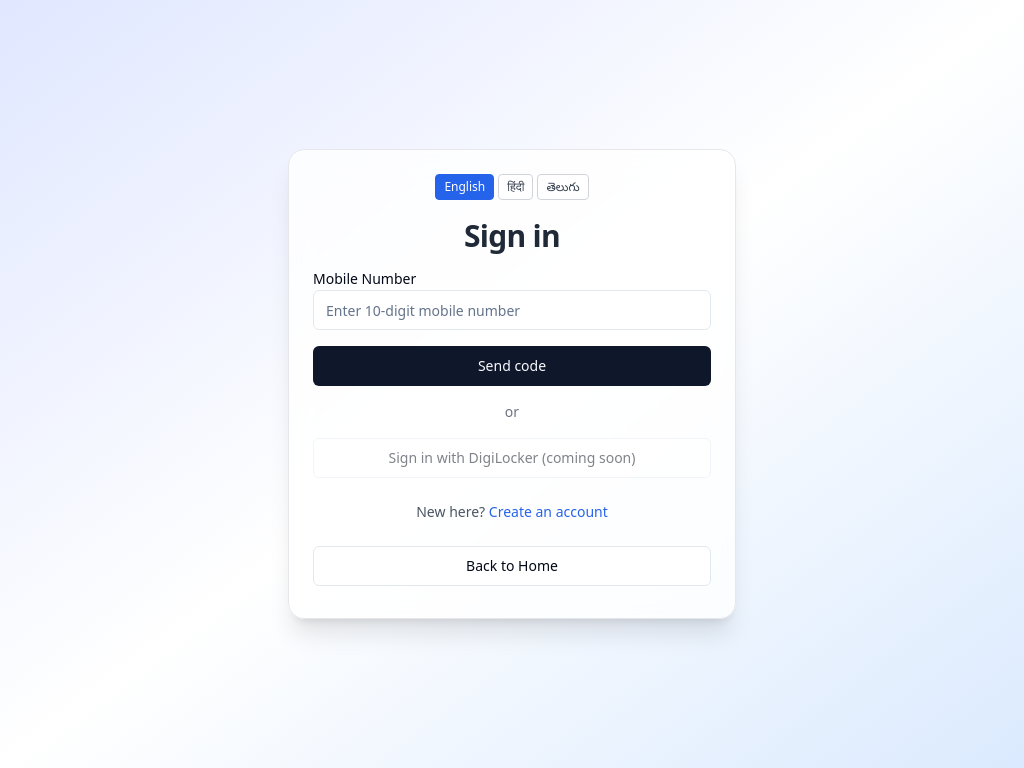
Test case: i18n › switches the login screen language and sets the page language
Check: the button "Send code" is shown, box [313,346,711,386]
Click the button "हिंदी" at (516, 187), box [498,174,534,200]
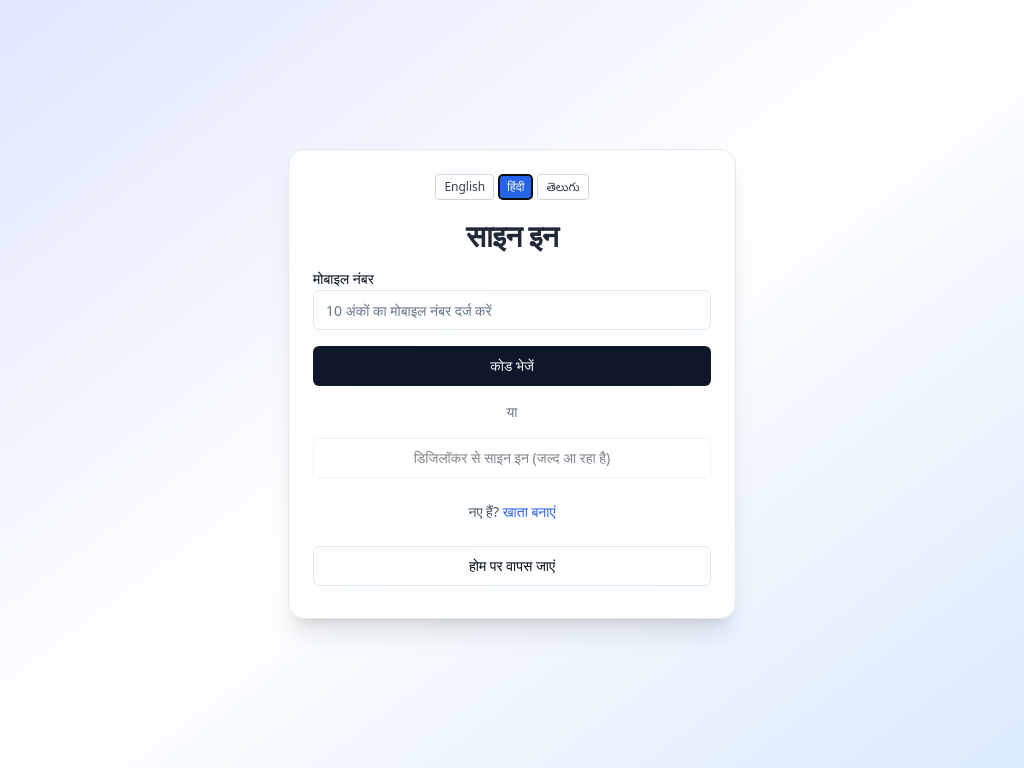
Check: the button "कोड भेजें" is shown, box [313,346,711,386]
Click the button "తెలుగు" at (563, 187), box [538,174,589,200]
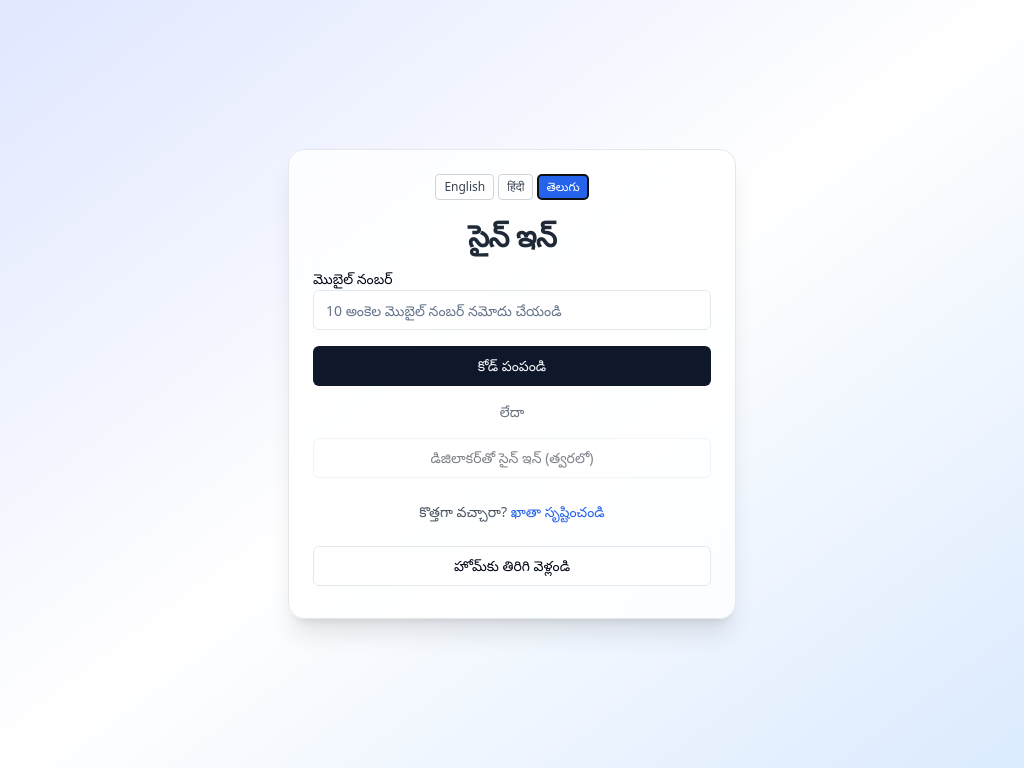
Check: the button "కోడ్ పంపండి" is shown, box [313,346,711,386]
